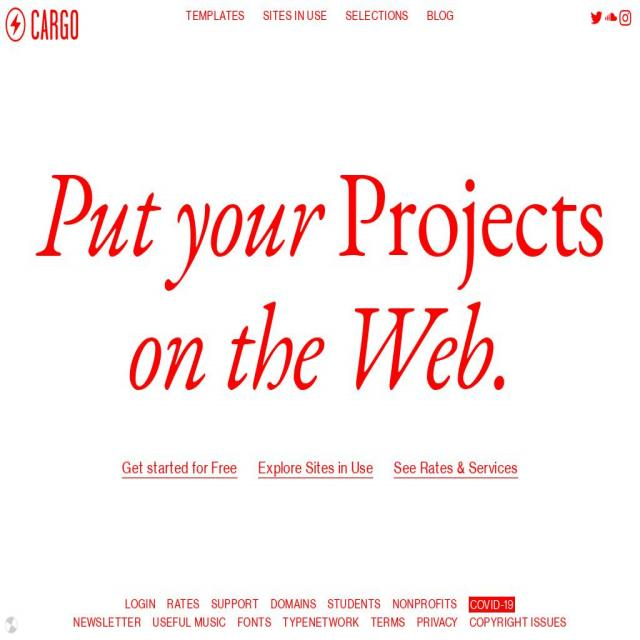follow-options: (590, 3, 636, 32)
navigation-links: (69, 595, 570, 635), (120, 455, 522, 485), (179, 1, 455, 26)
